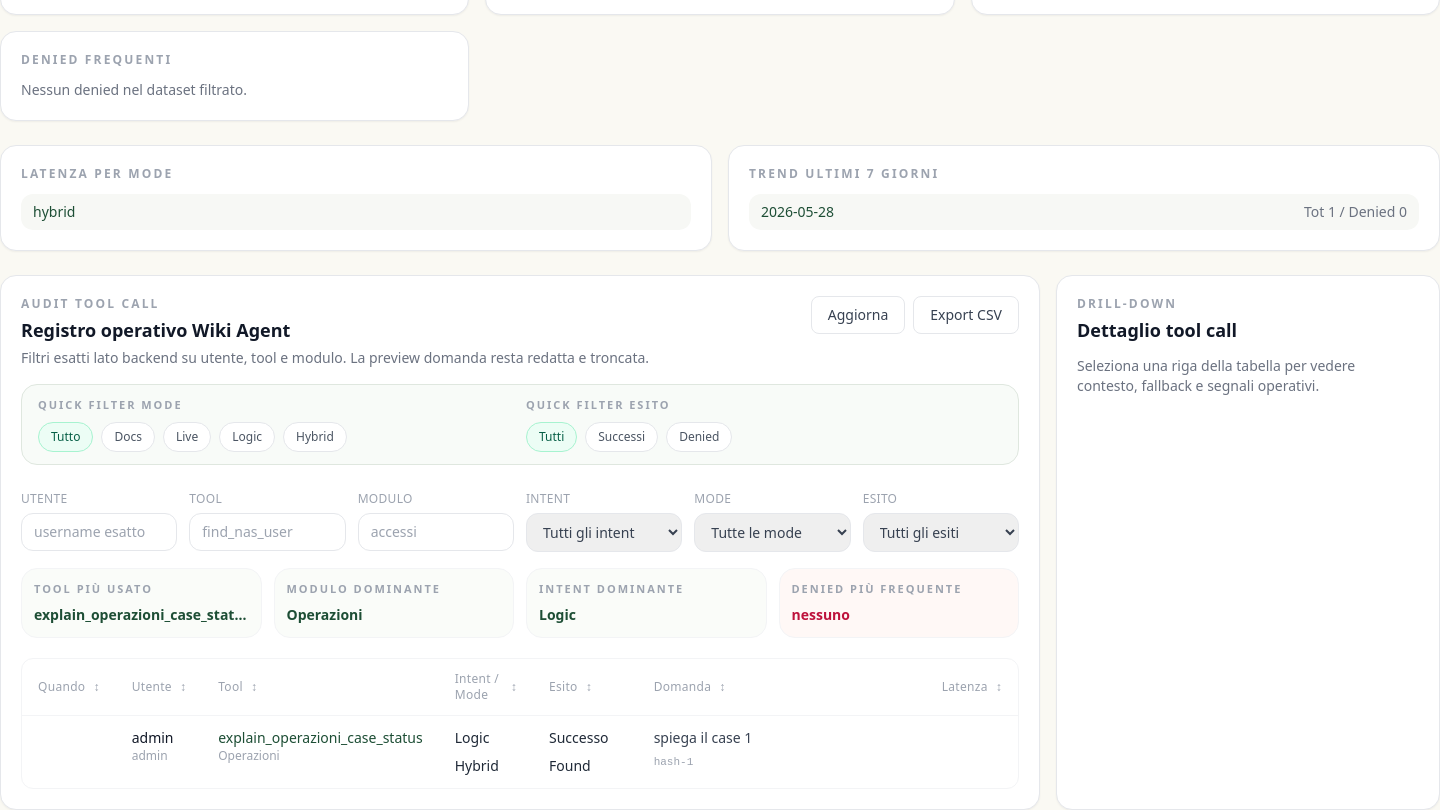
WikiAuditPage › renders detail drill-down for selected audit row
The image size is (1440, 810).
(page scrolled)
Expected: the heading "Registro operativo Wiki Agent" is shown, [21,318,290,342]
Click the text "spiega il case 1".
click(703, 738)  # box [654,728,752,747]
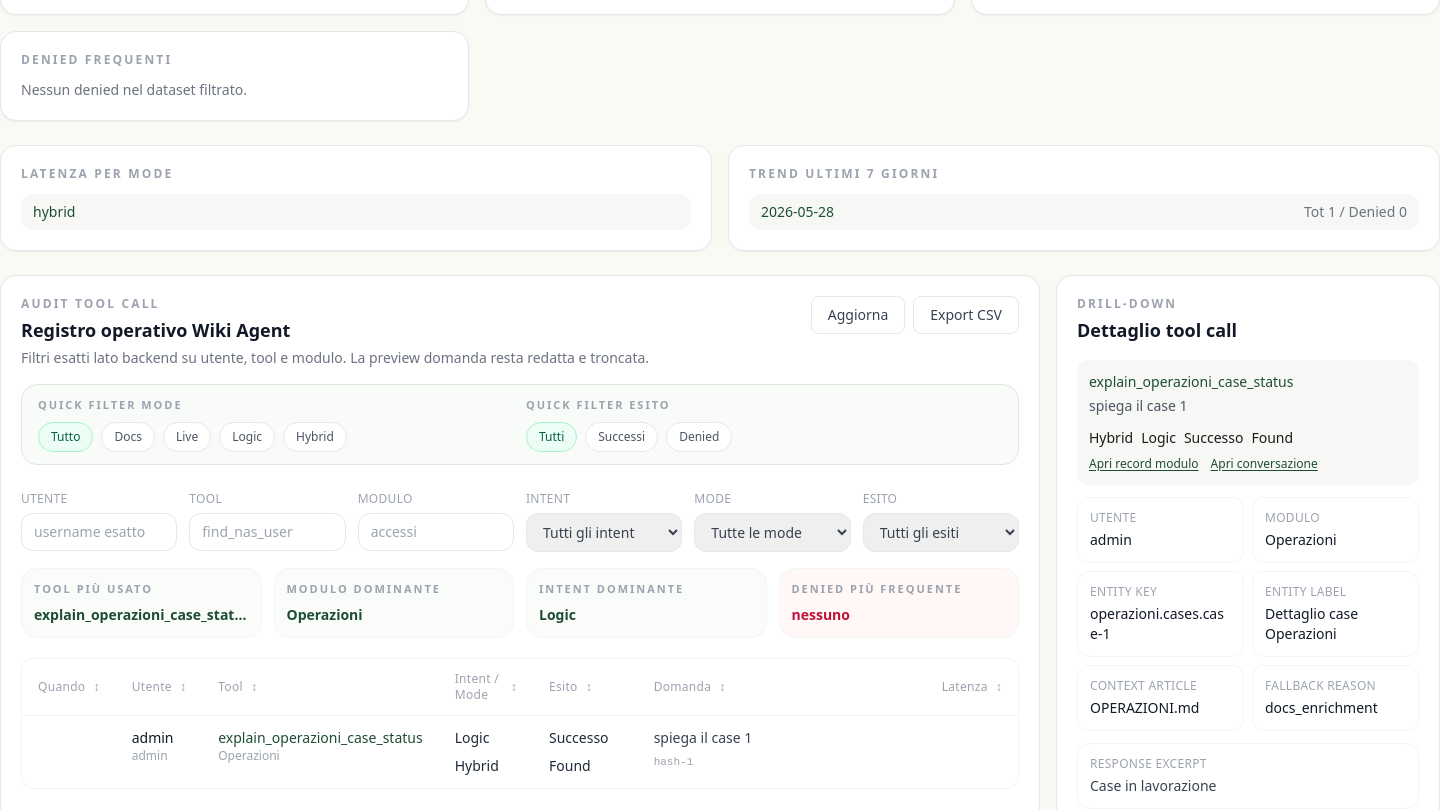
Expected: the text "operazioni.cases.case-1" is shown, [1090,604,1231,644]
Expected: the text "docs_enrichment" is shown, [1265,698,1378,717]
Expected: the text "Case in lavorazione" is shown, [1090,776,1216,795]
